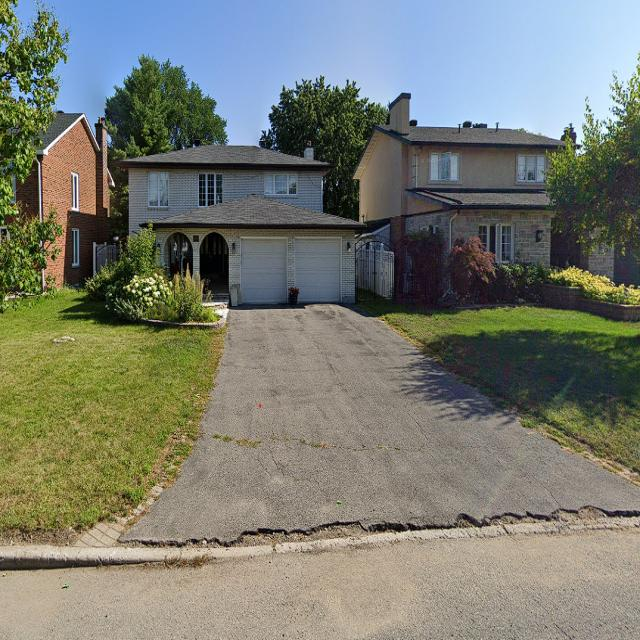Door: (201, 245, 227, 298)
curb: (0, 509, 638, 575)
obstacle: (153, 277, 222, 324)
walkways: (122, 308, 638, 541)
